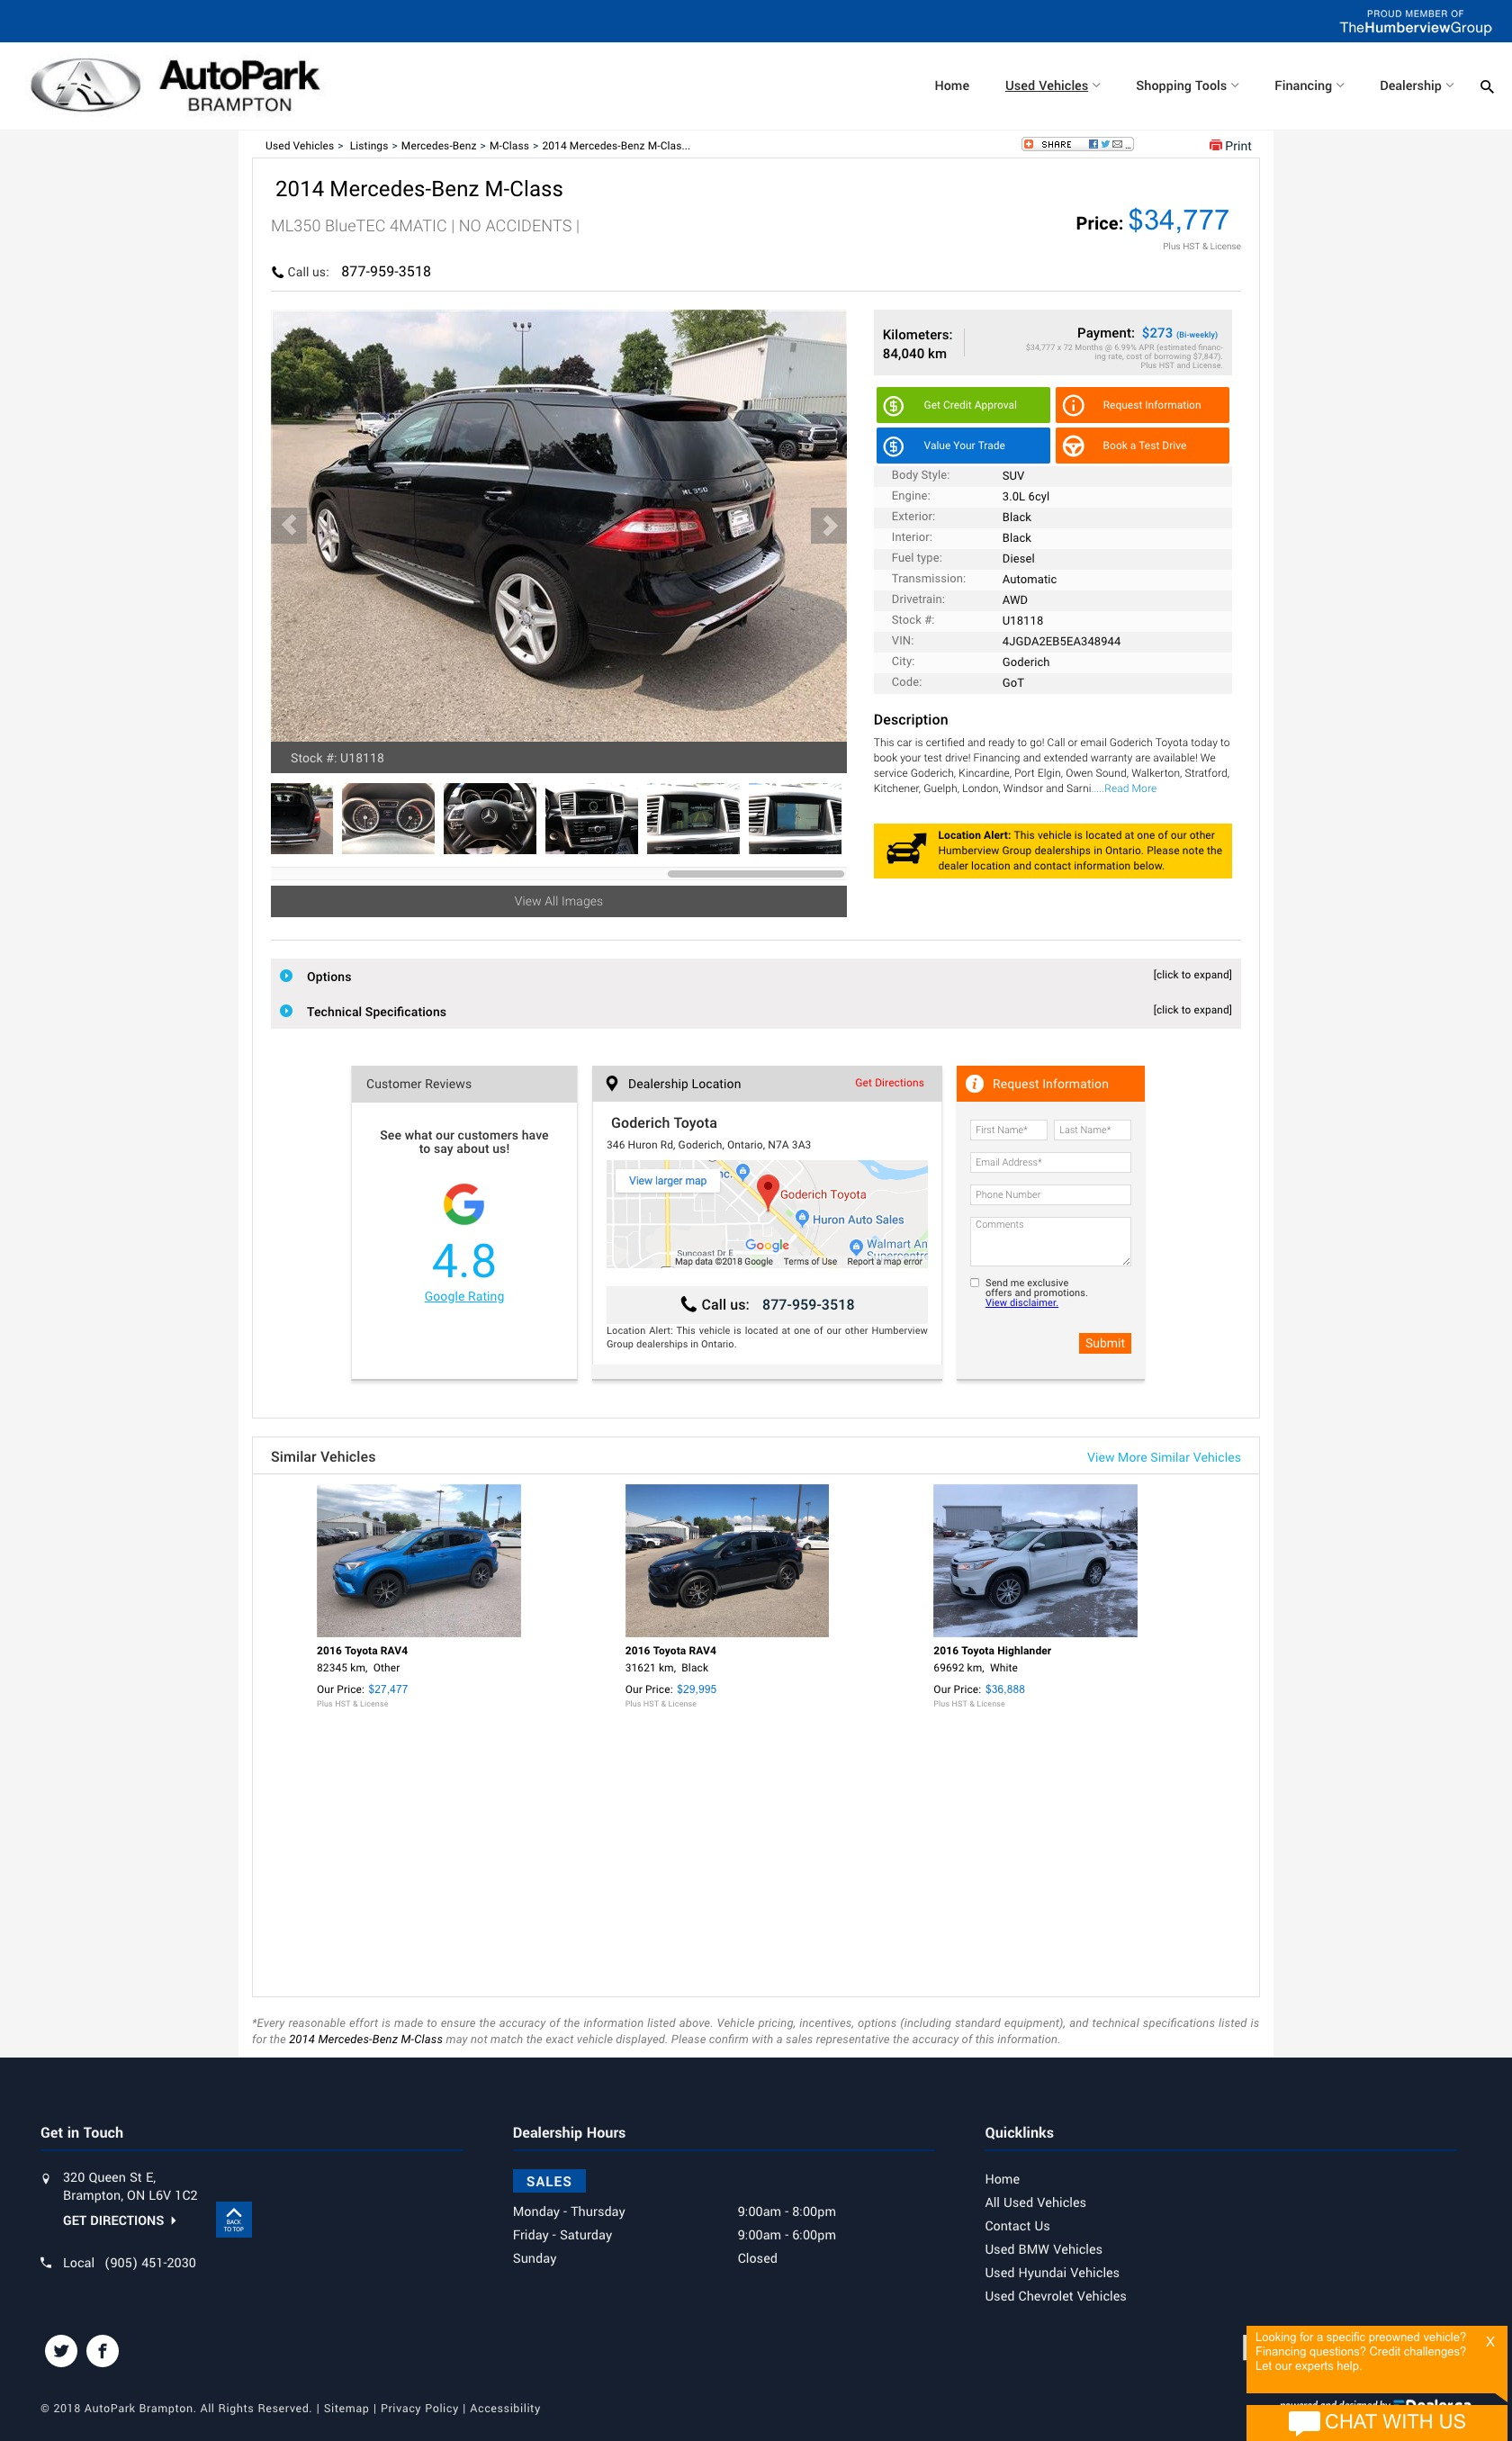car: (809, 507, 851, 544)
